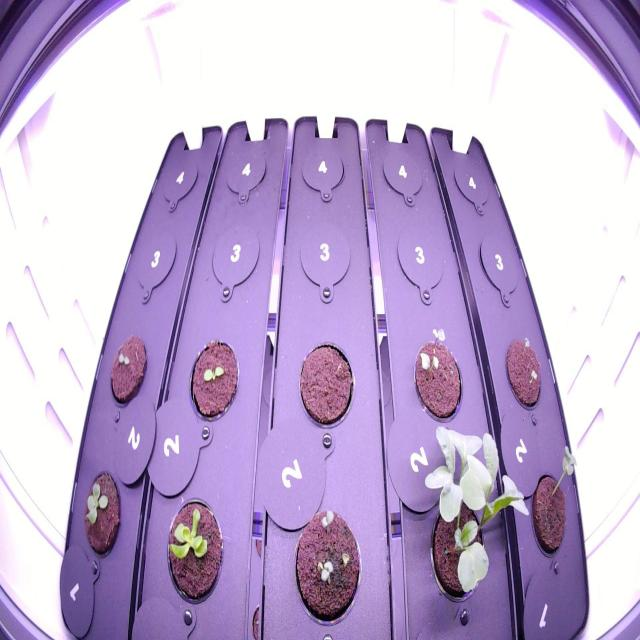empty_pod: (293, 214, 356, 305), (390, 216, 452, 303), (203, 219, 263, 306), (470, 215, 530, 297), (374, 140, 432, 208), (132, 221, 178, 301), (446, 146, 500, 214), (294, 138, 350, 202), (220, 138, 272, 204), (156, 144, 202, 206)
germination: (288, 500, 368, 633), (525, 436, 586, 570), (410, 320, 472, 430), (184, 330, 245, 430), (500, 326, 548, 421), (104, 330, 152, 411)
pod: (293, 330, 359, 434)
young: (157, 485, 230, 613), (76, 462, 128, 566)
